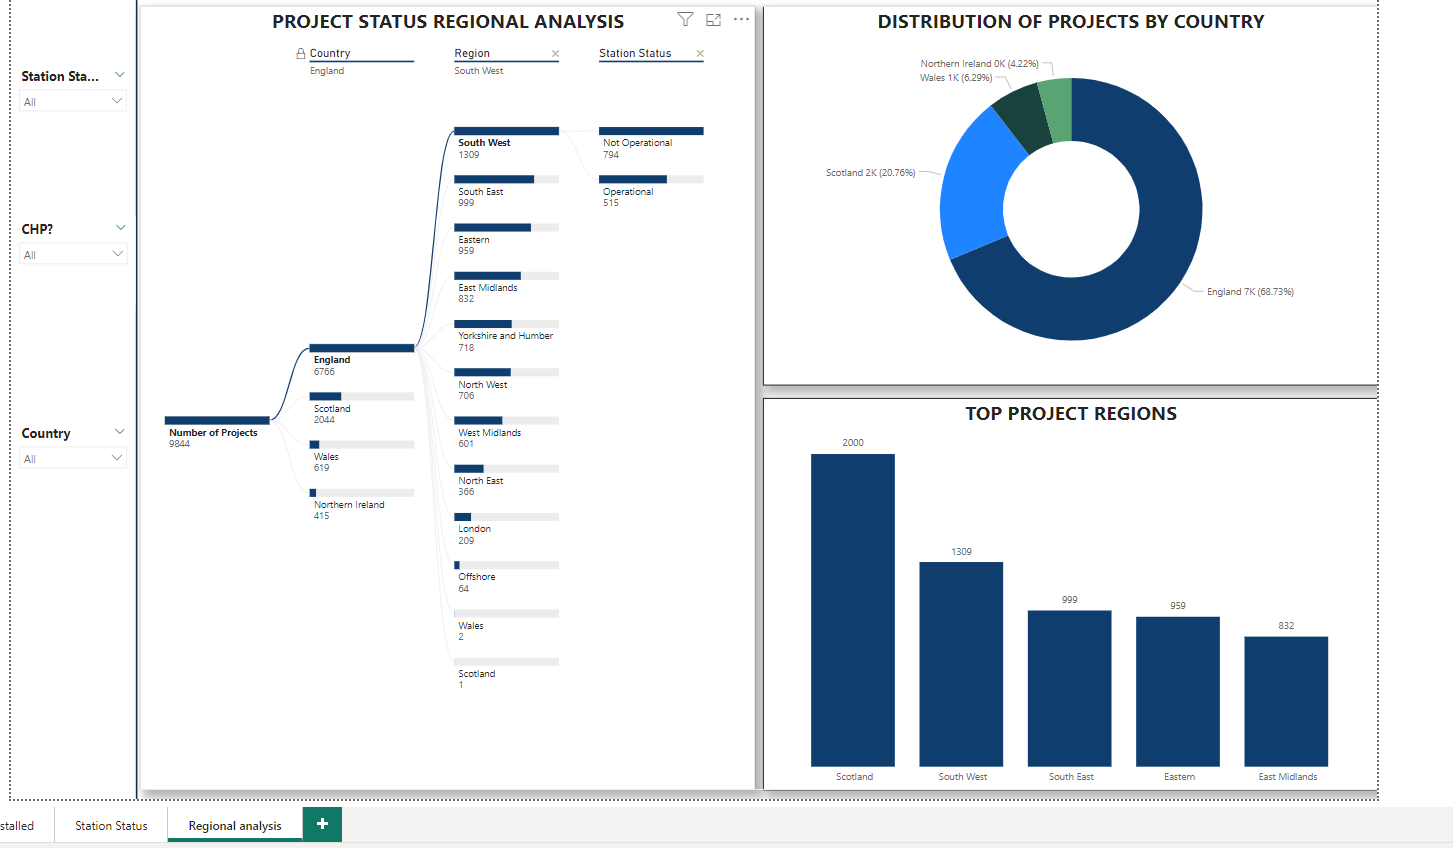

Layout of this report page (visuals, bound fields, positions):
{"tool":"powerbi","page":{"name":"Country  and Region","canvas":[1700,1000],"ordinal":2},"visuals":[{"type":"shape","box":[151.1,0,9,999.8],"z":0},{"type":"slicer","fields":{"Values":["RENEWABLE.CHP?"]},"box":[0,274.7,155.3,110.1],"z":1000},{"type":"slicer","fields":{"Values":["RENEWABLE.Station Status"]},"box":[0,84.9,153.9,98.2],"z":3000},{"type":"decompositionTreeVisual","title":"PROJECT STATUS REGIONAL ANALYSIS","fields":{"Analyze":["RENEWABLE.Number of Projects"],"ExplainBy":["RENEWABLE.Country","RENEWABLE.Region","RENEWABLE.Station Status"]},"box":[160.4,0,764.6,1000],"z":4000,"group":"g1"},{"type":"slicer","fields":{"Values":["RENEWABLE.Country"]},"box":[0,528.2,153.9,110.1],"z":5000},{"type":"donutChart","title":"DISTRIBUTION OF PROJECTS BY COUNTRY","fields":{"Category":["RENEWABLE.Country"],"Y":["RENEWABLE.Number of Projects"]},"box":[935.6,0,764.6,483.6],"z":6000,"group":"g1"},{"type":"columnChart","title":"TOP PROJECT REGIONS","fields":{"Category":["RENEWABLE.Region"],"Y":["RENEWABLE.Number of Projects"]},"box":[935.6,500,764.6,500],"z":7000,"group":"g1"},{"type":"group","id":"g1","title":"Group 1","box":[160.4,0,1539.8,1000],"z":7001}]}

Visuals, with their boxes on the page's 1700x1000 design canvas (x1, y1, x2, y2). These are canvas units, not pixel positions in the 1453x848 screenshot, which may show the page scaled, cropped or inside an application window:
shape: [left=151, top=0, right=160, bottom=1000]
slicer - RENEWABLE.CHP?: [left=0, top=275, right=155, bottom=385]
slicer - RENEWABLE.Station Status: [left=0, top=85, right=154, bottom=183]
"PROJECT STATUS REGIONAL ANALYSIS" decompositionTreeVisual: [left=160, top=0, right=925, bottom=1000]
slicer - RENEWABLE.Country: [left=0, top=528, right=154, bottom=638]
"DISTRIBUTION OF PROJECTS BY COUNTRY" donutChart: [left=936, top=0, right=1700, bottom=484]
"TOP PROJECT REGIONS" columnChart: [left=936, top=500, right=1700, bottom=1000]
"Group 1" group: [left=160, top=0, right=1700, bottom=1000]
